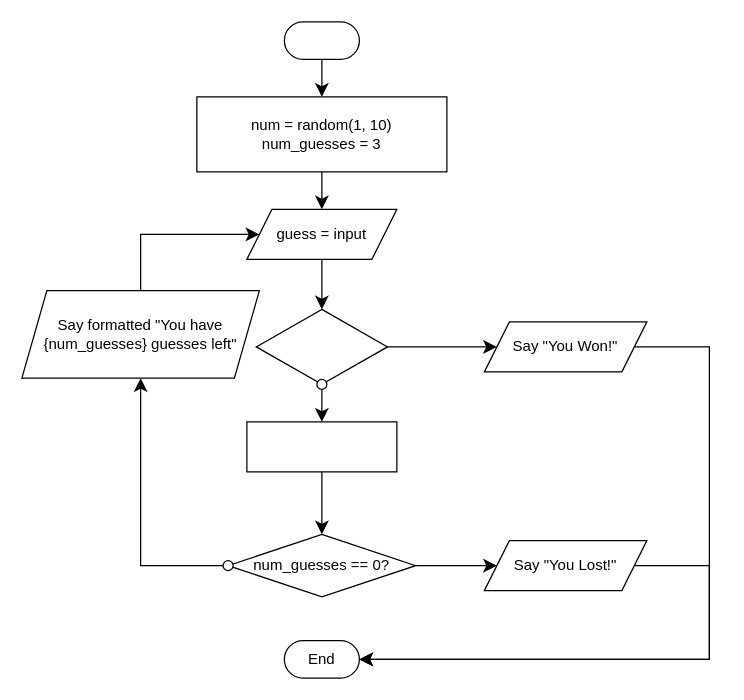
The diagram is 744 pixels wide and 700 high, and some of its shapes have lost their labels. Here are the shapes that lost their labels. From the top down, the centre of each, then its label:
At pixel 321 40: "Start".
At pixel 321 346: "guess == num?".
At pixel 321 446: "Decrement num_guesses".
